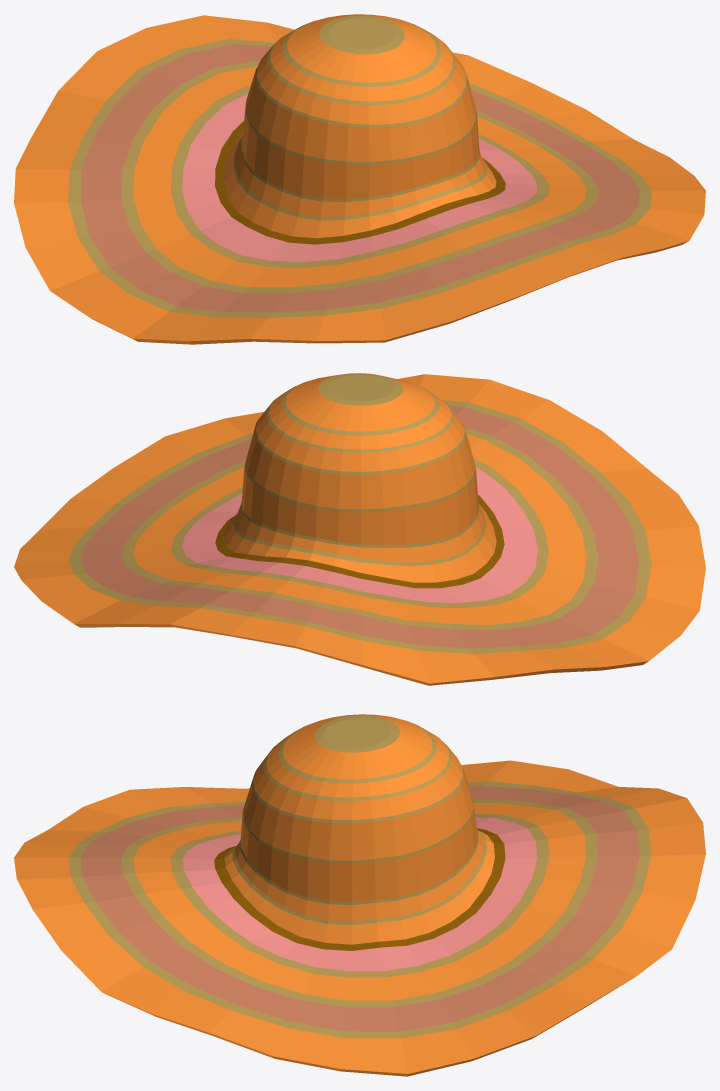
File: hat.fbx
3 views of the same model, one above another, from view 1: azimuth 30°, elevation 25°; view 2: azimuth 150°, elevation 25°; view 3: azimuth 270°, elevation 25° (orthographic).
Parts seen in each view (by area): view 1: Hat; view 2: Hat; view 3: Hat.
Boxes of the visible parts, x1,y1,x2,y2 form: Hat: (14, 14, 705, 344); Hat: (14, 373, 705, 685); Hat: (14, 714, 705, 1076).
Size of the model in its own units: 53.31 by 17.29 by 53.3.
